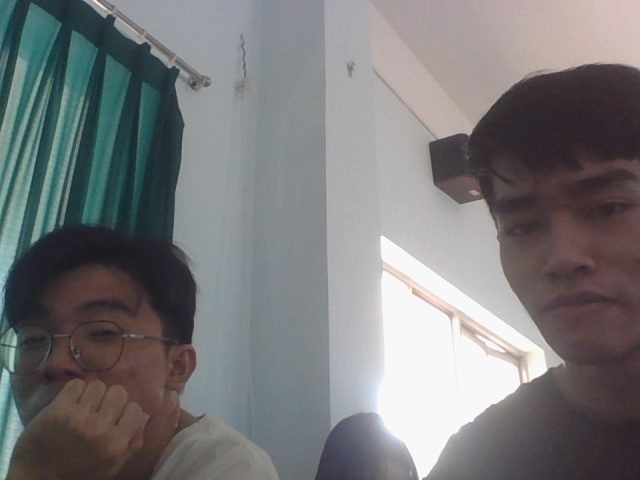real: (3, 207, 191, 473)
